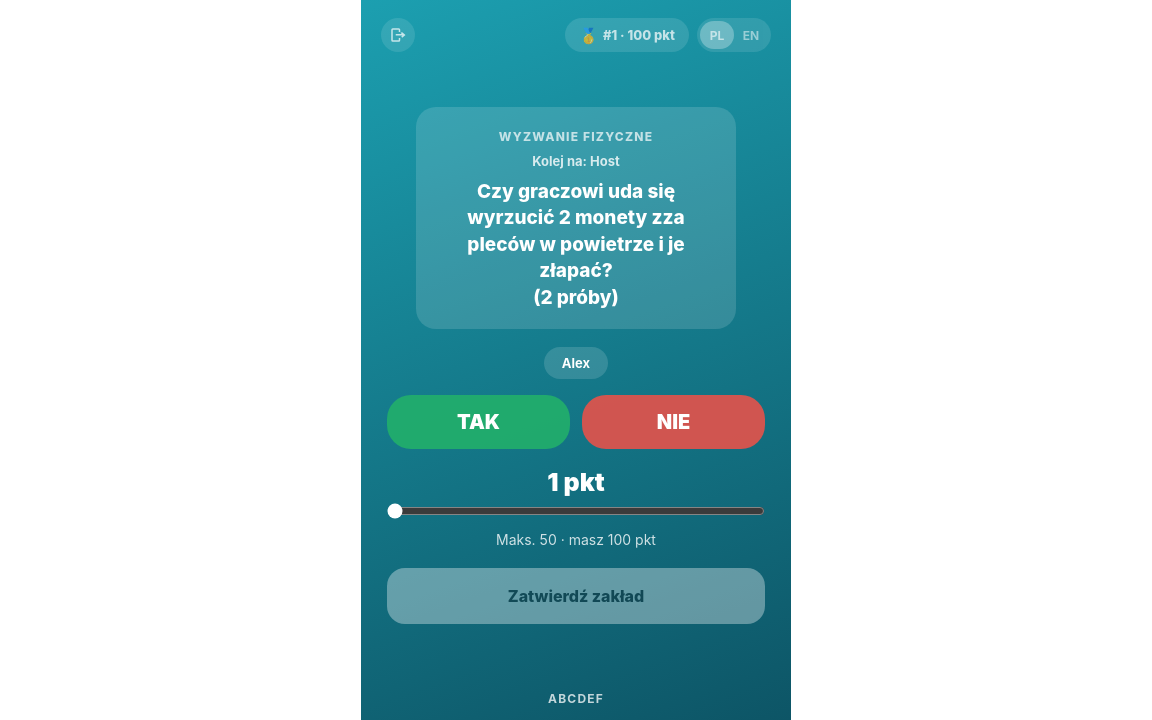
Scenario: a Guest's Exit dialog › Stay closes the dialog and changes nothing
What coordinates should you click on to do the following:
click the link named "Wyjdź"
I would click on:
 (398, 35)
Its box is [381,18,415,52].
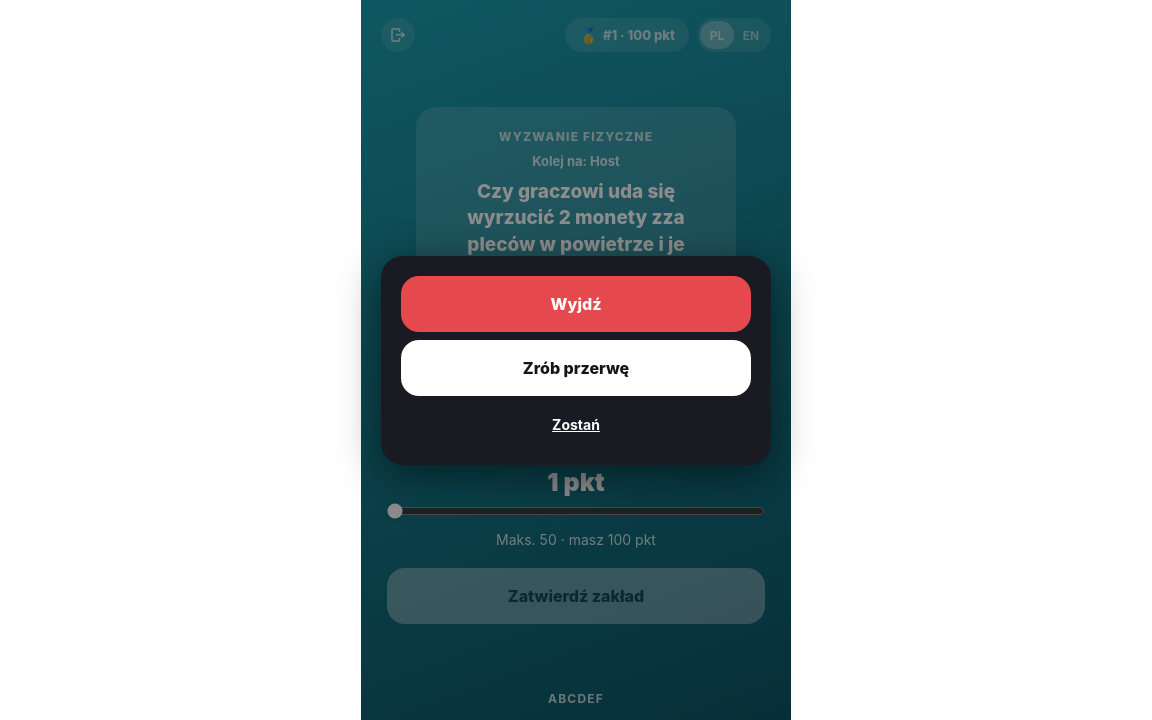
What coordinates should you click on to do the following:
click the button "Zostań"
I would click on:
 (576, 424)
Its box is [401,404,751,444].
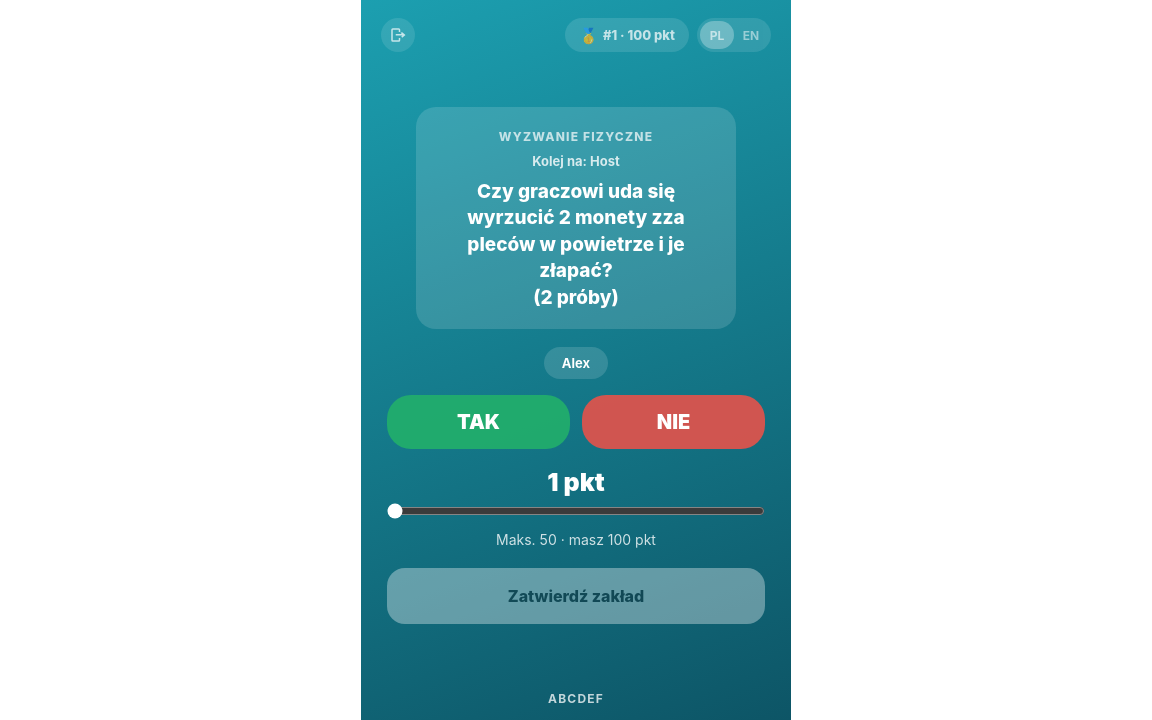
Expected: the dialog is gone
